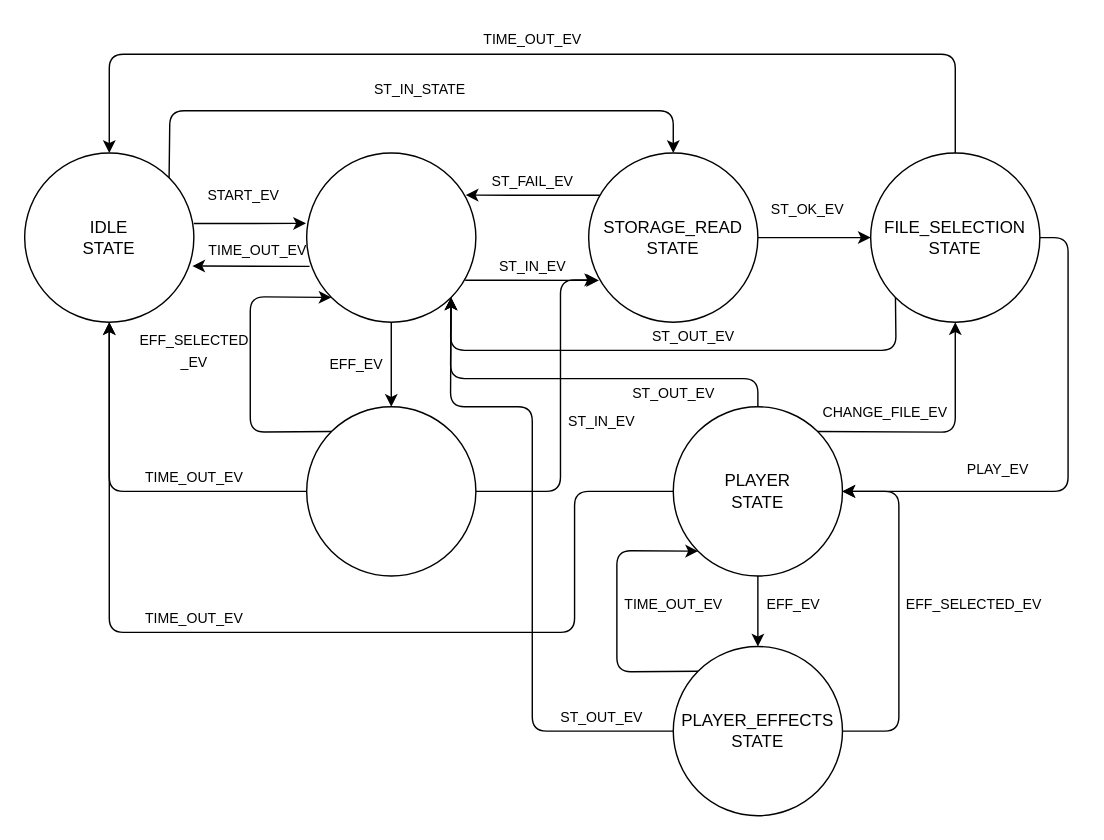
The diagram is 1104 pixels wide and 840 high, and some of its shapes have lost their labels. Here are the shapes that lost their labels. From the top down, the centre of each, then its label:
At pixel 390 237: "MAIN_MENU STATE".
At pixel 390 490: "MAIN_EFFECTS STATE".
